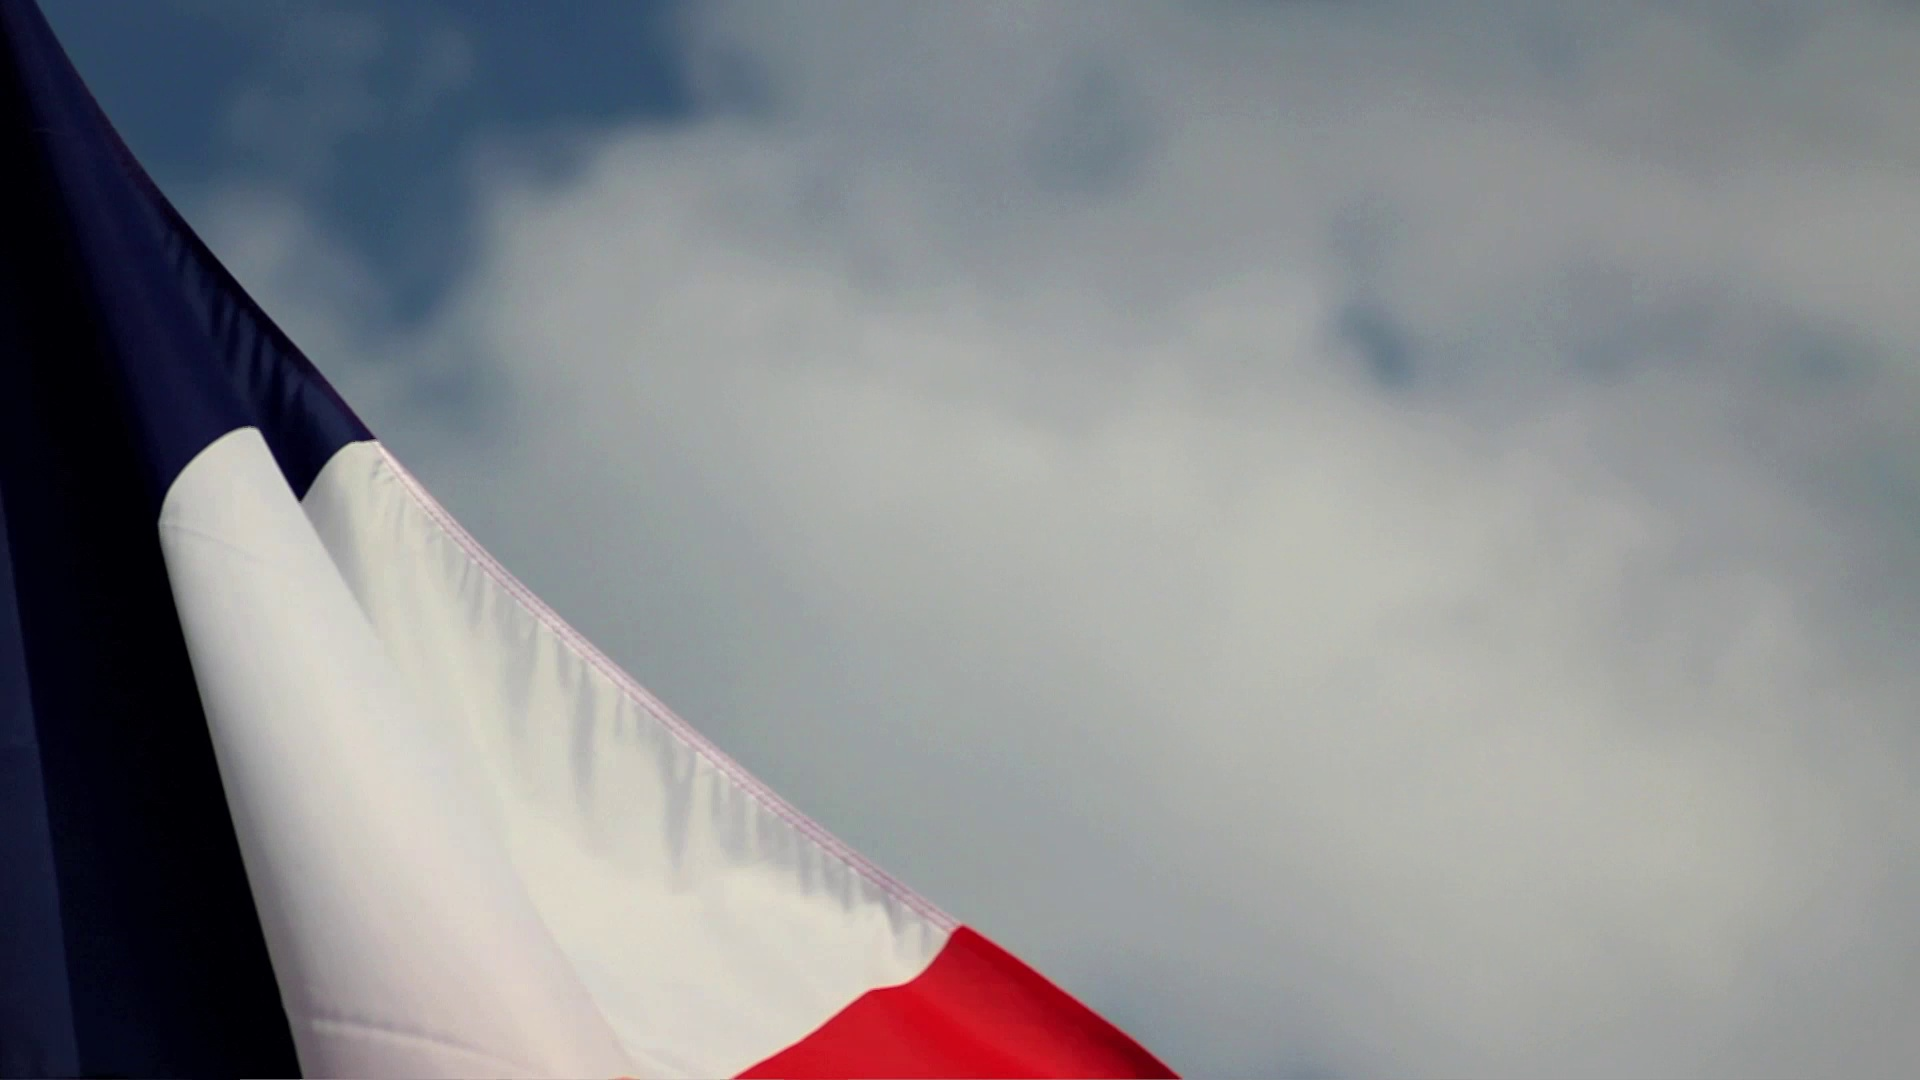French Flag: (1, 1, 1168, 1080)
